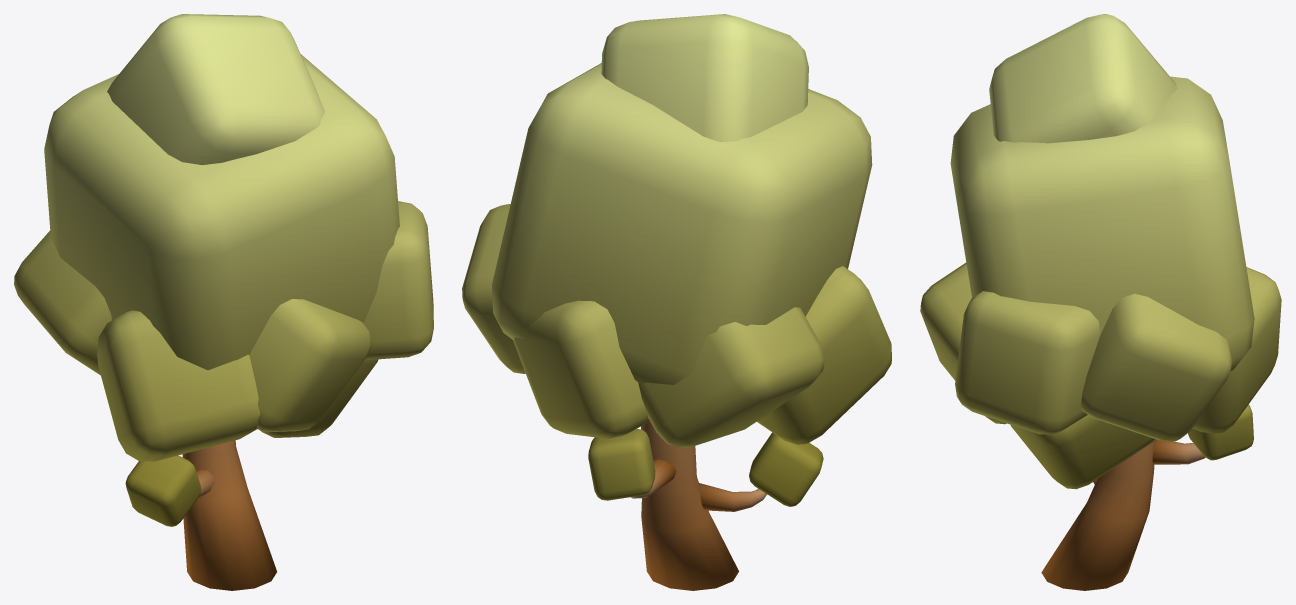
File: Tree03.fbx
3 renders of one model, left to right at view 1: azimuth 30°, elevation 25°; view 2: azimuth 150°, elevation 25°; view 3: azimuth 270°, elevation 25°, orthographic. The views are drawn at different scales.
Parts seen in each view (by area): view 1: Tree03Cl_LOD0, Tree03C_LOD0; view 2: Tree03Cl_LOD0, Tree03C_LOD0; view 3: Tree03Cl_LOD0, Tree03C_LOD0.
Boxes of the visible parts, box(x1,y1,x2,y2) form: Tree03Cl_LOD0: box(14, 14, 433, 526); Tree03C_LOD0: box(182, 440, 276, 590); Tree03Cl_LOD0: box(462, 14, 891, 506); Tree03C_LOD0: box(631, 422, 766, 590); Tree03Cl_LOD0: box(920, 14, 1281, 489); Tree03C_LOD0: box(1041, 439, 1205, 590).
Size of what is drawn, in the model's own units: 6.48 by 6.44 by 10.55.
